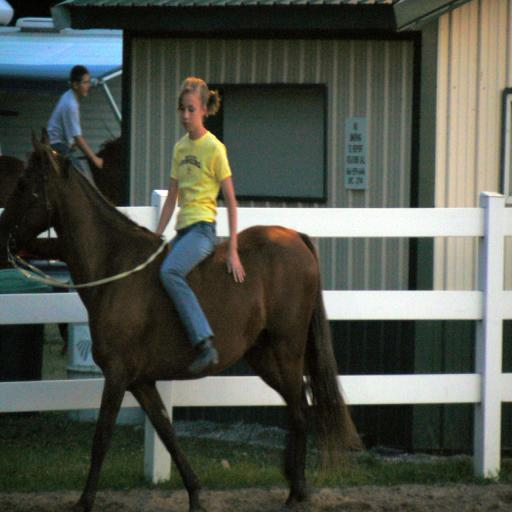horse: (0, 126, 365, 512), (0, 135, 127, 351)
